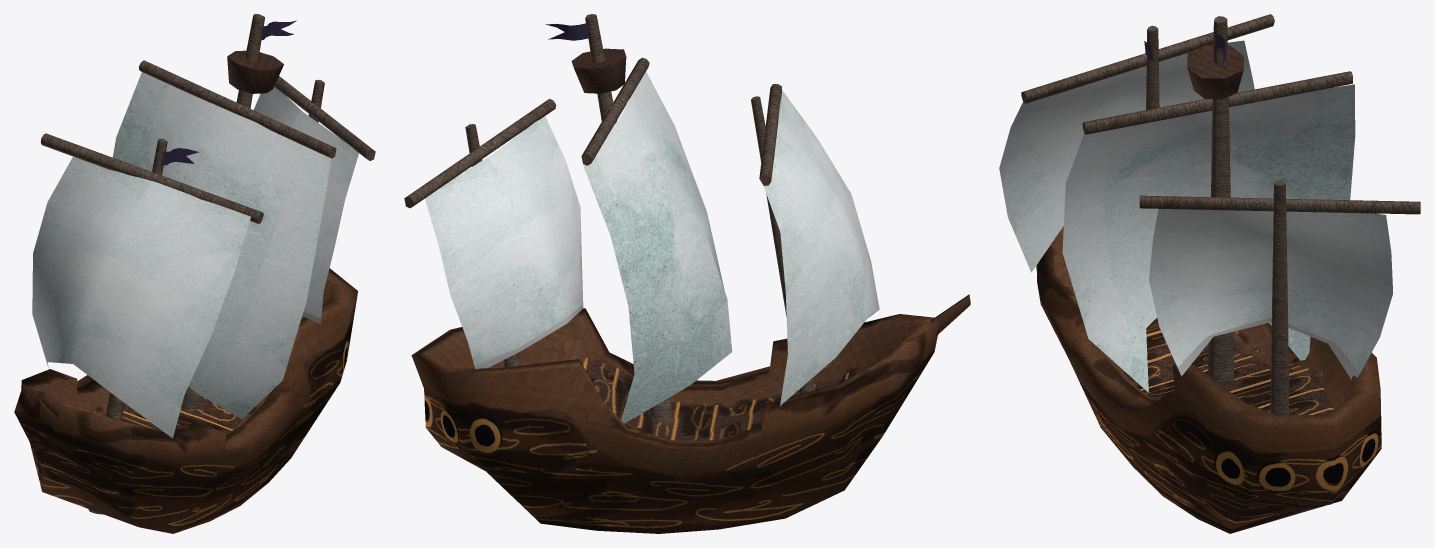
Rendered from venus2.glb.
3 views of the same model, side by side, from view 1: azimuth 30°, elevation 25°; view 2: azimuth 150°, elevation 25°; view 3: azimuth 270°, elevation 25° (orthographic). The views are drawn at different scales.
Parts seen in each view (by area): view 1: vela, barco_phong2_0, vela2, vela3, palo, palo1, vista, pCube28, mastil_1, mastil_2, bandra1; view 2: barco_phong2_0, vela2, vela3, vela, pCube28, vista, palo1, mastil_1, mastil_2, palo; view 3: barco_phong2_0, vela2, vela3, vela, mastil_3, mastil_1, pCube28, palo1, palo, vista, mastil_2.
Part boxes in pixels (<box>): vela: <box>32,156,250,438</box>; barco_phong2_0: <box>14,268,357,533</box>; vela2: <box>112,72,331,418</box>; vela3: <box>253,87,358,324</box>; palo: <box>40,133,263,223</box>; palo1: <box>139,60,336,158</box>; vista: <box>227,50,283,93</box>; pCube28: <box>274,76,375,160</box>; mastil_1: <box>181,14,264,410</box>; mastil_2: <box>88,138,167,514</box>; bandra1: <box>160,148,199,165</box>; barco_phong2_0: <box>411,308,938,533</box>; vela2: <box>583,72,732,423</box>; vela3: <box>425,116,583,369</box>; vela: <box>763,91,879,405</box>; pCube28: <box>404,99,556,208</box>; vista: <box>571,48,626,93</box>; palo1: <box>581,57,649,165</box>; mastil_1: <box>585,14,674,425</box>; mastil_2: <box>751,96,814,394</box>; palo: <box>759,84,781,185</box>; barco_phong2_0: <box>1036,226,1381,533</box>; vela2: <box>1062,84,1355,392</box>; vela3: <box>1149,209,1392,379</box>; vela: <box>999,40,1254,272</box>; mastil_3: <box>1270,180,1289,414</box>; mastil_1: <box>1208,16,1234,384</box>; pCube28: <box>1139,195,1420,214</box>; palo1: <box>1082,71,1352,134</box>; palo: <box>1021,14,1274,103</box>; vista: <box>1187,45,1243,98</box>; mastil_2: <box>1146,25,1159,109</box>.
Bounding box in the file's own units: 1.67 × 1.78 × 1.36.
1 material, 1 textured.
